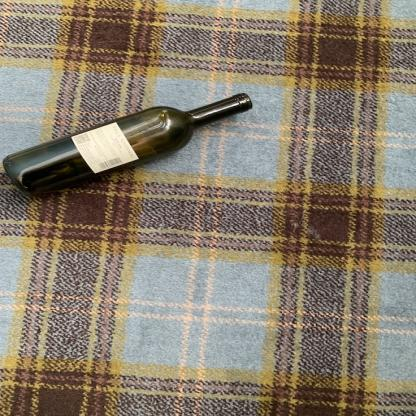trash: (1, 94, 257, 194)
